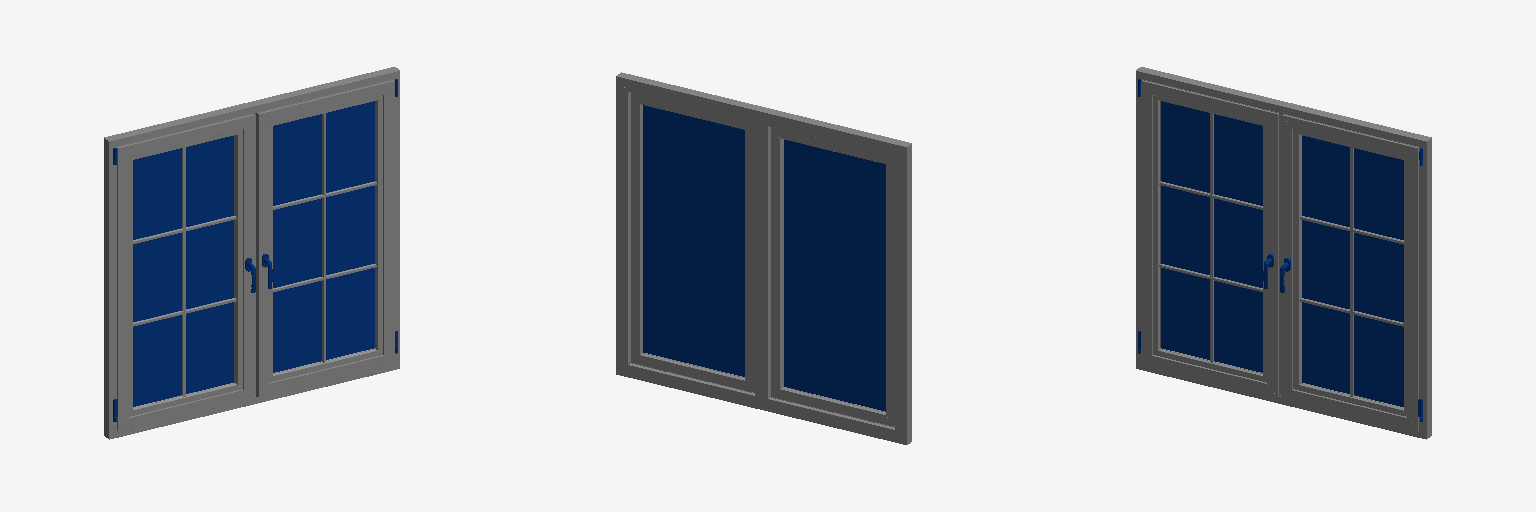
3 views of the same model, side by side, from view 1: azimuth 30°, elevation 25°; view 2: azimuth 150°, elevation 25°; view 3: azimuth 330°, elevation 25° (orthographic).
Visible parts, largest first — view 1: AM109_010_02, AM109_010_01, AM109_010_00; view 2: AM109_010_01, AM109_010_02, AM109_010_00; view 3: AM109_010_02, AM109_010_01, AM109_010_00.
Boxes of the visible parts, x1,y1,x2,y2 form: AM109_010_02: [113, 114, 255, 431]; AM109_010_01: [257, 80, 397, 396]; AM109_010_00: [104, 67, 399, 439]; AM109_010_01: [631, 93, 754, 392]; AM109_010_02: [771, 127, 894, 426]; AM109_010_00: [616, 72, 911, 444]; AM109_010_02: [1138, 80, 1278, 397]; AM109_010_01: [1280, 114, 1422, 431]; AM109_010_00: [1136, 67, 1431, 439].
Size of the model in its own units: 1607 by 1573 by 127.